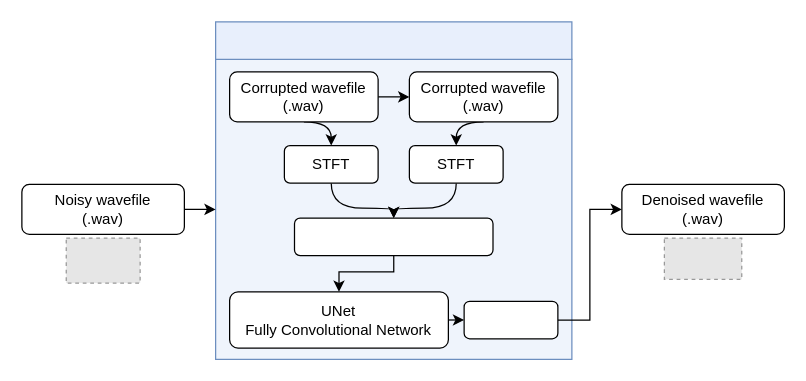
This 806x381 diagram has some shape labels left out. Grey dashed boxes stand in for pictures. Each missing label, with the centre of its shape:
"iSTFT" belongs at (510,319).
"Proposed Model" belongs at (393,40).
"Training Set: {Input, Target}" belongs at (393,236).
